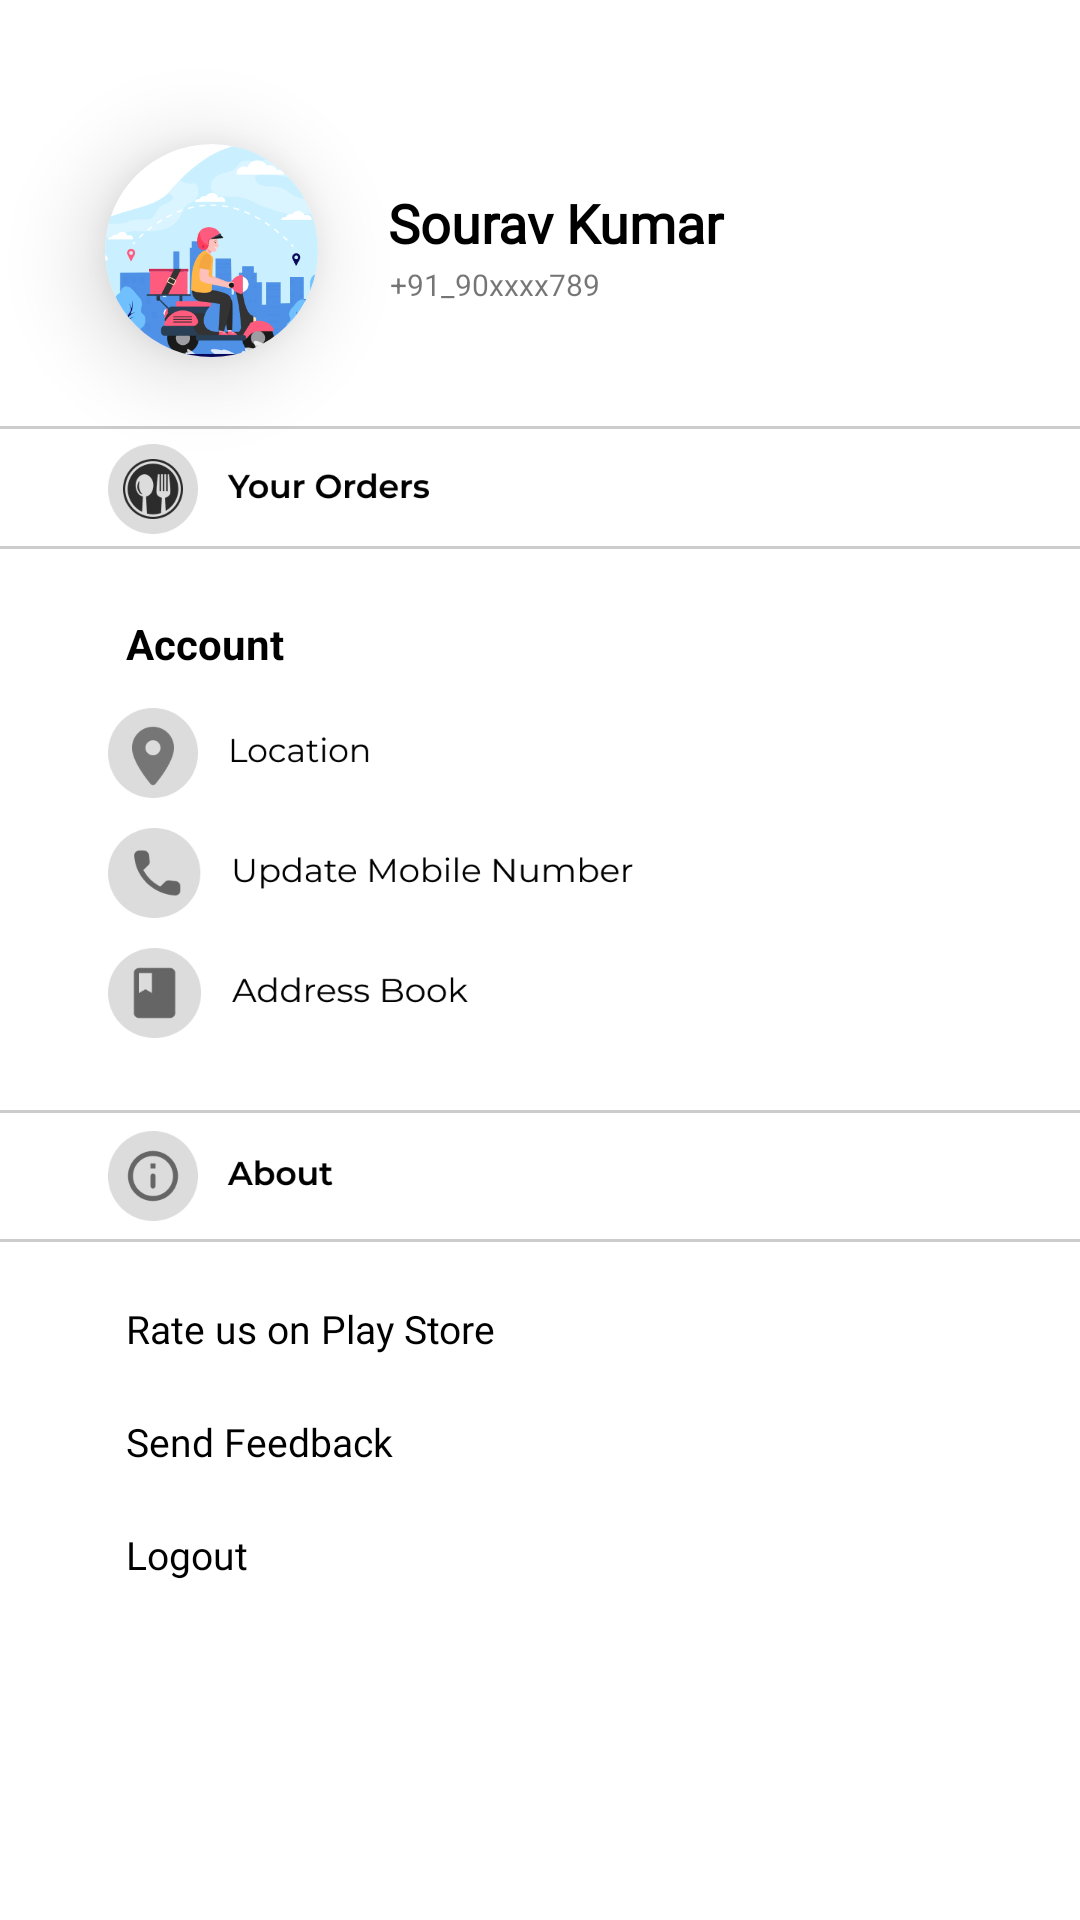

Named icons in this screenshot (1080px×1920px) and their bounding boxes, Rect(x1, y1, x2, y2):
deliveryboy: Rect(105, 147, 318, 357)
